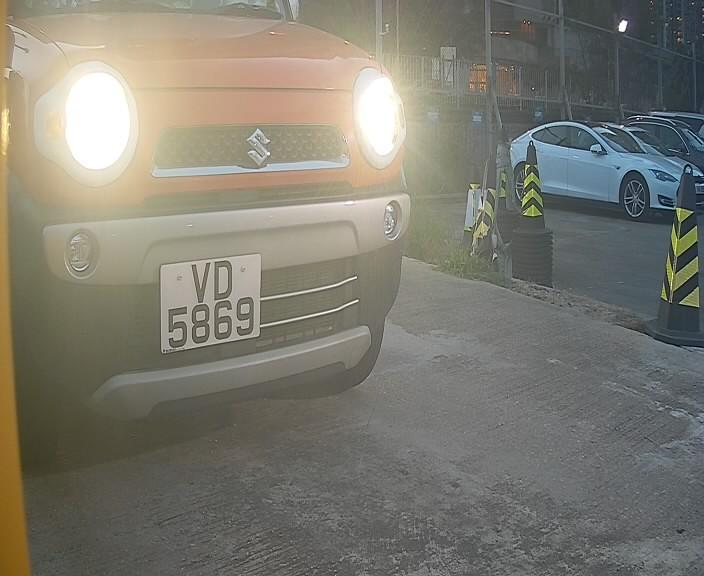License Plate: (148, 237, 271, 361)
